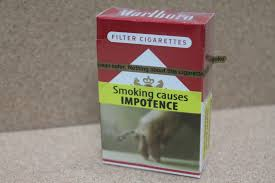marlboro: (98, 15, 201, 174)
